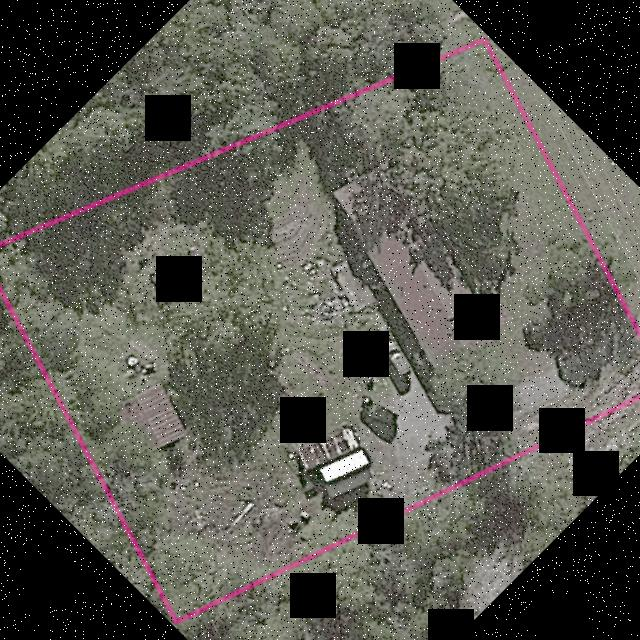Driveway: (375, 319, 634, 473)
House: (331, 157, 496, 371)
Other: (297, 427, 369, 499), (120, 382, 183, 447)
